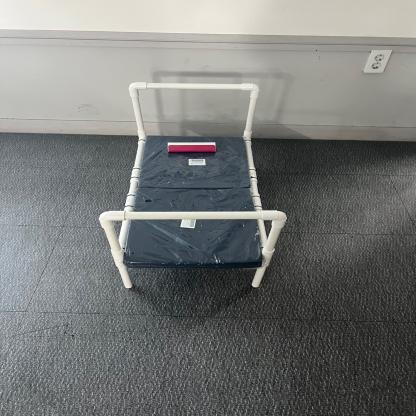np: (94, 76, 324, 290)
